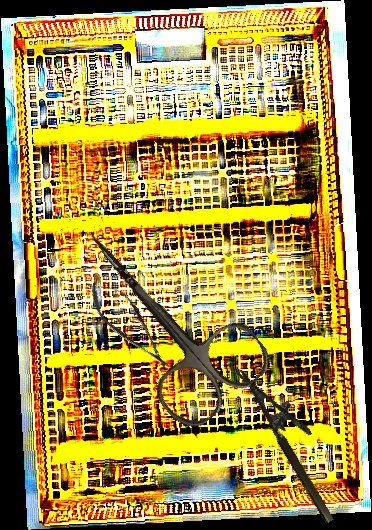Iris Scissors: (48, 195, 278, 437)
Micro Scissor: (80, 271, 181, 380)
Needle Holder: (236, 355, 355, 525)
